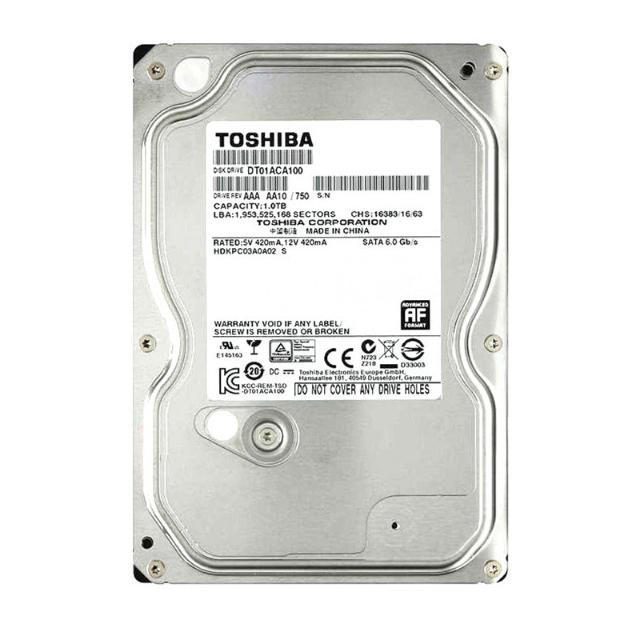HDD: (127, 42, 518, 589)
